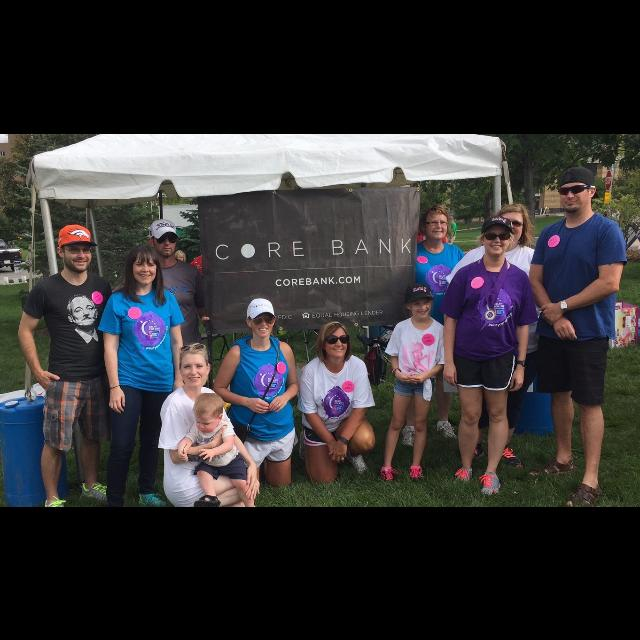head: (559, 168, 597, 212), (56, 232, 94, 272), (180, 342, 212, 388), (128, 243, 160, 284), (193, 391, 224, 433), (481, 214, 512, 256), (498, 204, 526, 248), (246, 302, 276, 338), (320, 322, 350, 358), (421, 206, 449, 240), (152, 220, 176, 256), (405, 290, 433, 318), (446, 215, 454, 223)
person: (438, 202, 568, 474), (438, 214, 540, 502), (121, 216, 212, 459), (398, 201, 484, 449), (212, 294, 300, 493), (378, 276, 454, 489), (293, 318, 379, 488), (444, 214, 458, 256)
